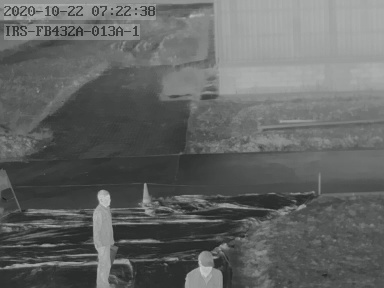person: (88, 189, 121, 284), (180, 248, 224, 288)
